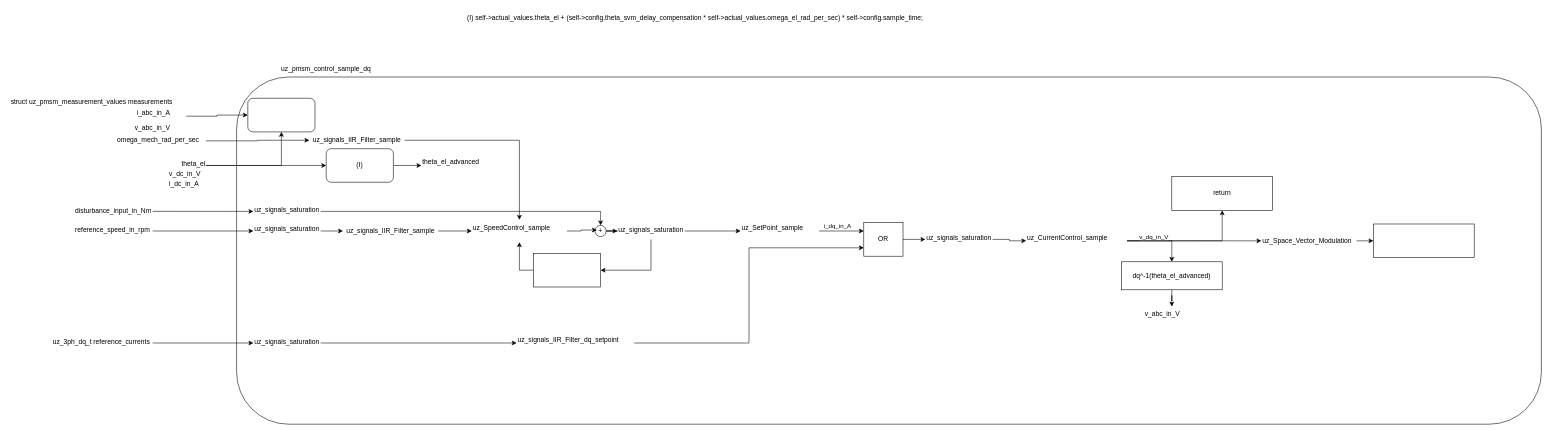
Image size: 1551x434. Some labels were removed from this diagram. The shapes that lost their labels are listed below. From the top down, each one's box as (x1, y1, x2, y2) in pixels, then its label:
(247, 98, 315, 132): dq
(1373, 223, 1474, 258): duty_cycle
(533, 253, 601, 287): Clamping
